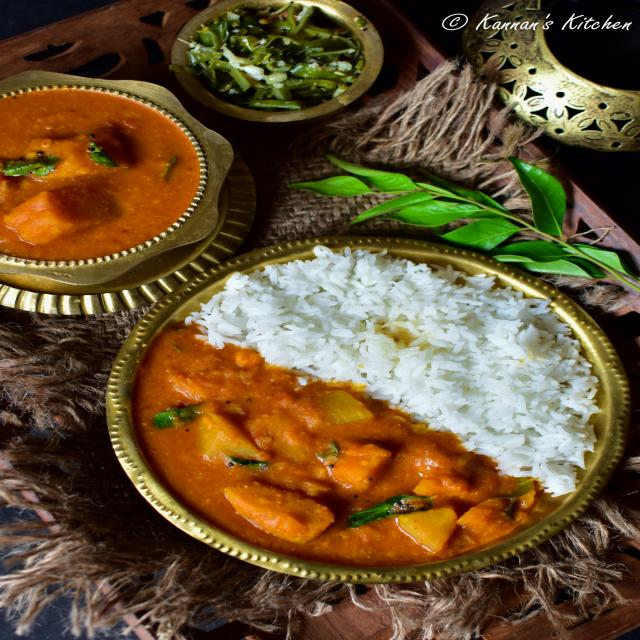Butter Chicken: (164, 399, 402, 528)
White Rice: (293, 274, 507, 389)
